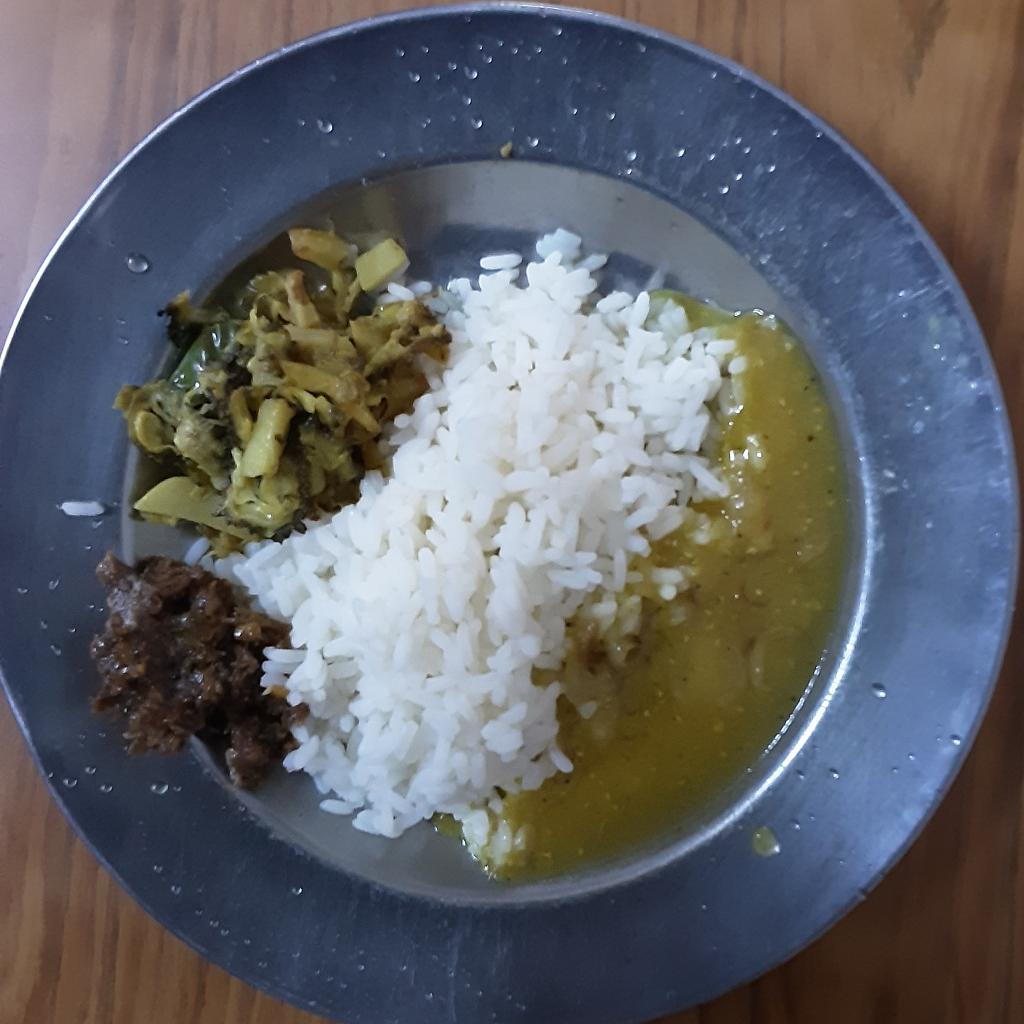achar: (96, 559, 283, 800)
daal: (508, 287, 850, 886)
khichuri: (107, 224, 444, 536)
rice: (190, 212, 730, 880)
